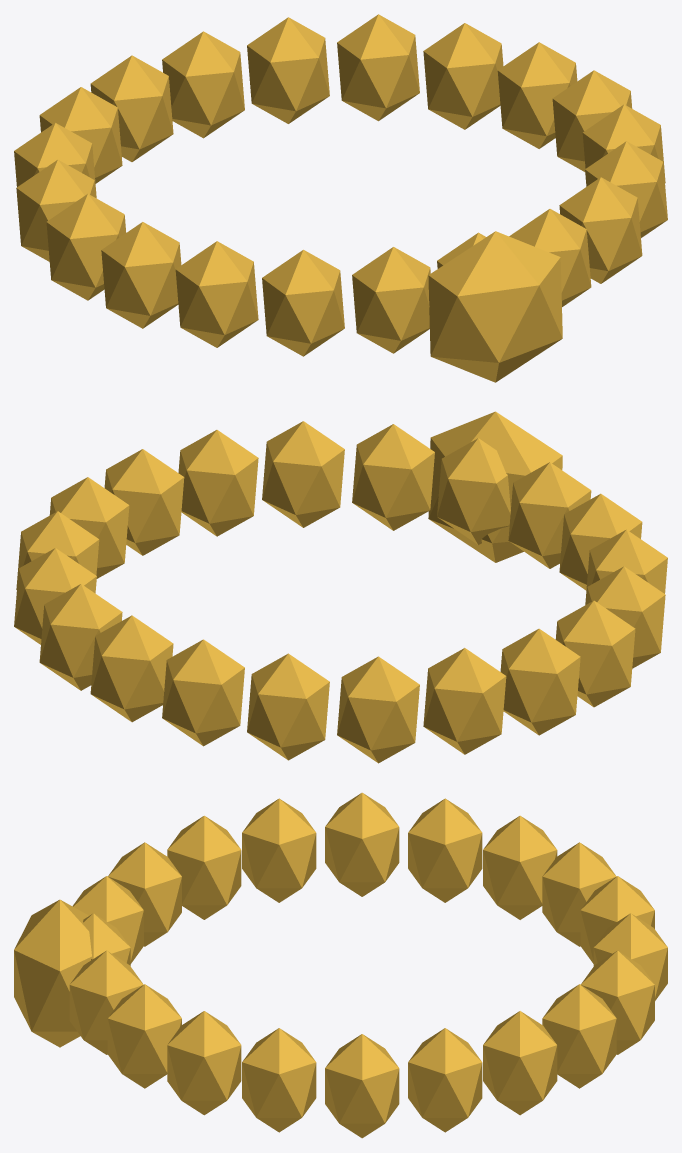
The model's file is reliquia_colar.glb.
3 renders of one model, top to bottom at view 1: azimuth 30°, elevation 25°; view 2: azimuth 150°, elevation 25°; view 3: azimuth 270°, elevation 25°, orthographic. The views are drawn at different scales.
Visible parts, largest first — view 1: reliquia_colar; view 2: reliquia_colar; view 3: reliquia_colar.
Boxes of the visible parts, x1=… form: reliquia_colar: x1=14, y1=14, x2=667, y2=382; reliquia_colar: x1=14, y1=411, x2=667, y2=763; reliquia_colar: x1=14, y1=792, x2=667, y2=1138.
Bounding box in the file's own units: 2 × 0.5 × 2.
